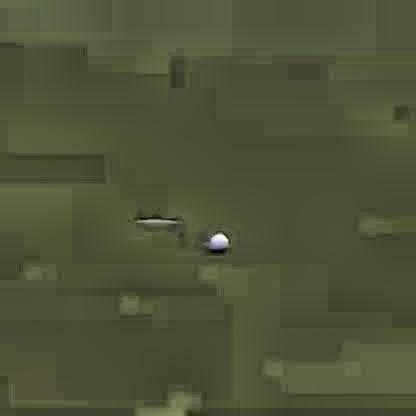golfball: (207, 231, 227, 251)
